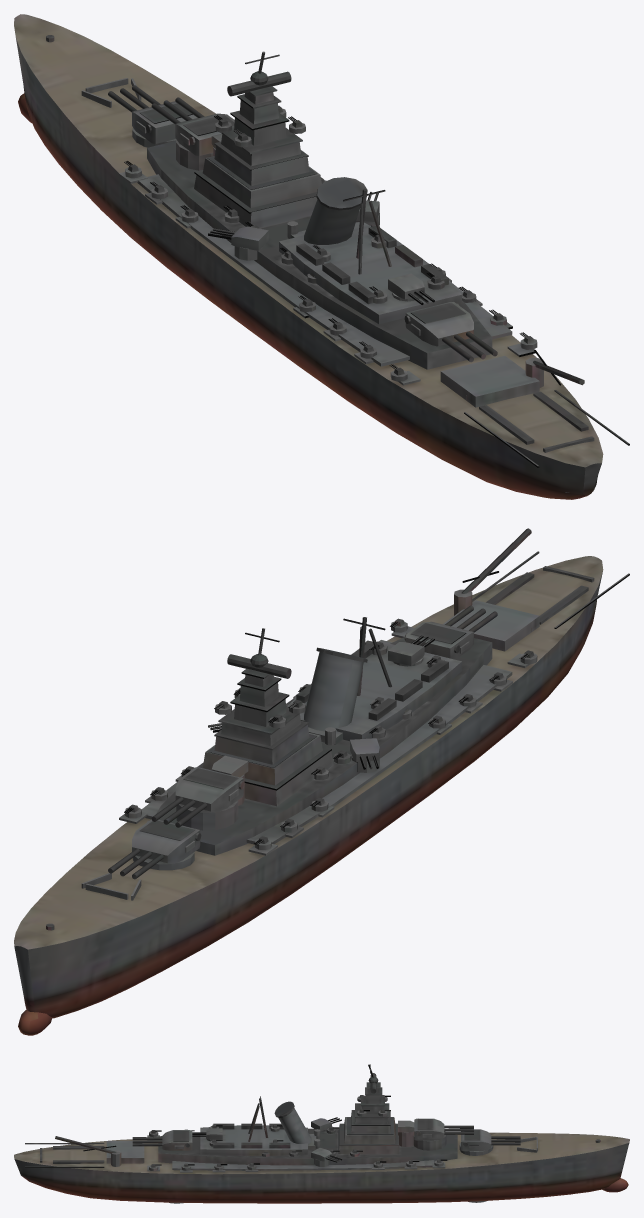
Rendered from yamato_baked.glb.
The picture shows the model from 3 angles, top to bottom: view 1: azimuth 30°, elevation 25°; view 2: azimuth 150°, elevation 25°; view 3: azimuth 270°, elevation 25°; orthographic projection. The views are drawn at different scales.
Parts seen in each view (by area): view 1: yamato_hull, turret_C, turret_A, turret_B, barrels_C; view 2: yamato_hull, turret_B, turret_A, turret_C; view 3: yamato_hull, turret_B, turret_C, turret_A, barrels_C, barrels_A, barrels_B.
Boxes of the visible parts, x1,y1,x2,y2 form: yamato_hull: (14, 14, 629, 499); turret_C: (404, 302, 473, 346); turret_A: (132, 101, 197, 143); turret_B: (175, 113, 234, 155); barrels_C: (442, 331, 497, 362); yamato_hull: (14, 528, 629, 1035); turret_B: (175, 767, 244, 812); turret_A: (132, 819, 201, 863); turret_C: (404, 621, 473, 659); yamato_hull: (14, 1064, 629, 1203); turret_B: (414, 1118, 444, 1140); turret_C: (162, 1130, 192, 1150); turret_A: (461, 1129, 491, 1151); barrels_C: (132, 1137, 162, 1146); barrels_A: (491, 1136, 520, 1145); barrels_B: (444, 1125, 473, 1134).
Size of the model in its own units: 45.33 by 62.3 by 263.
1 material, 1 textured.
